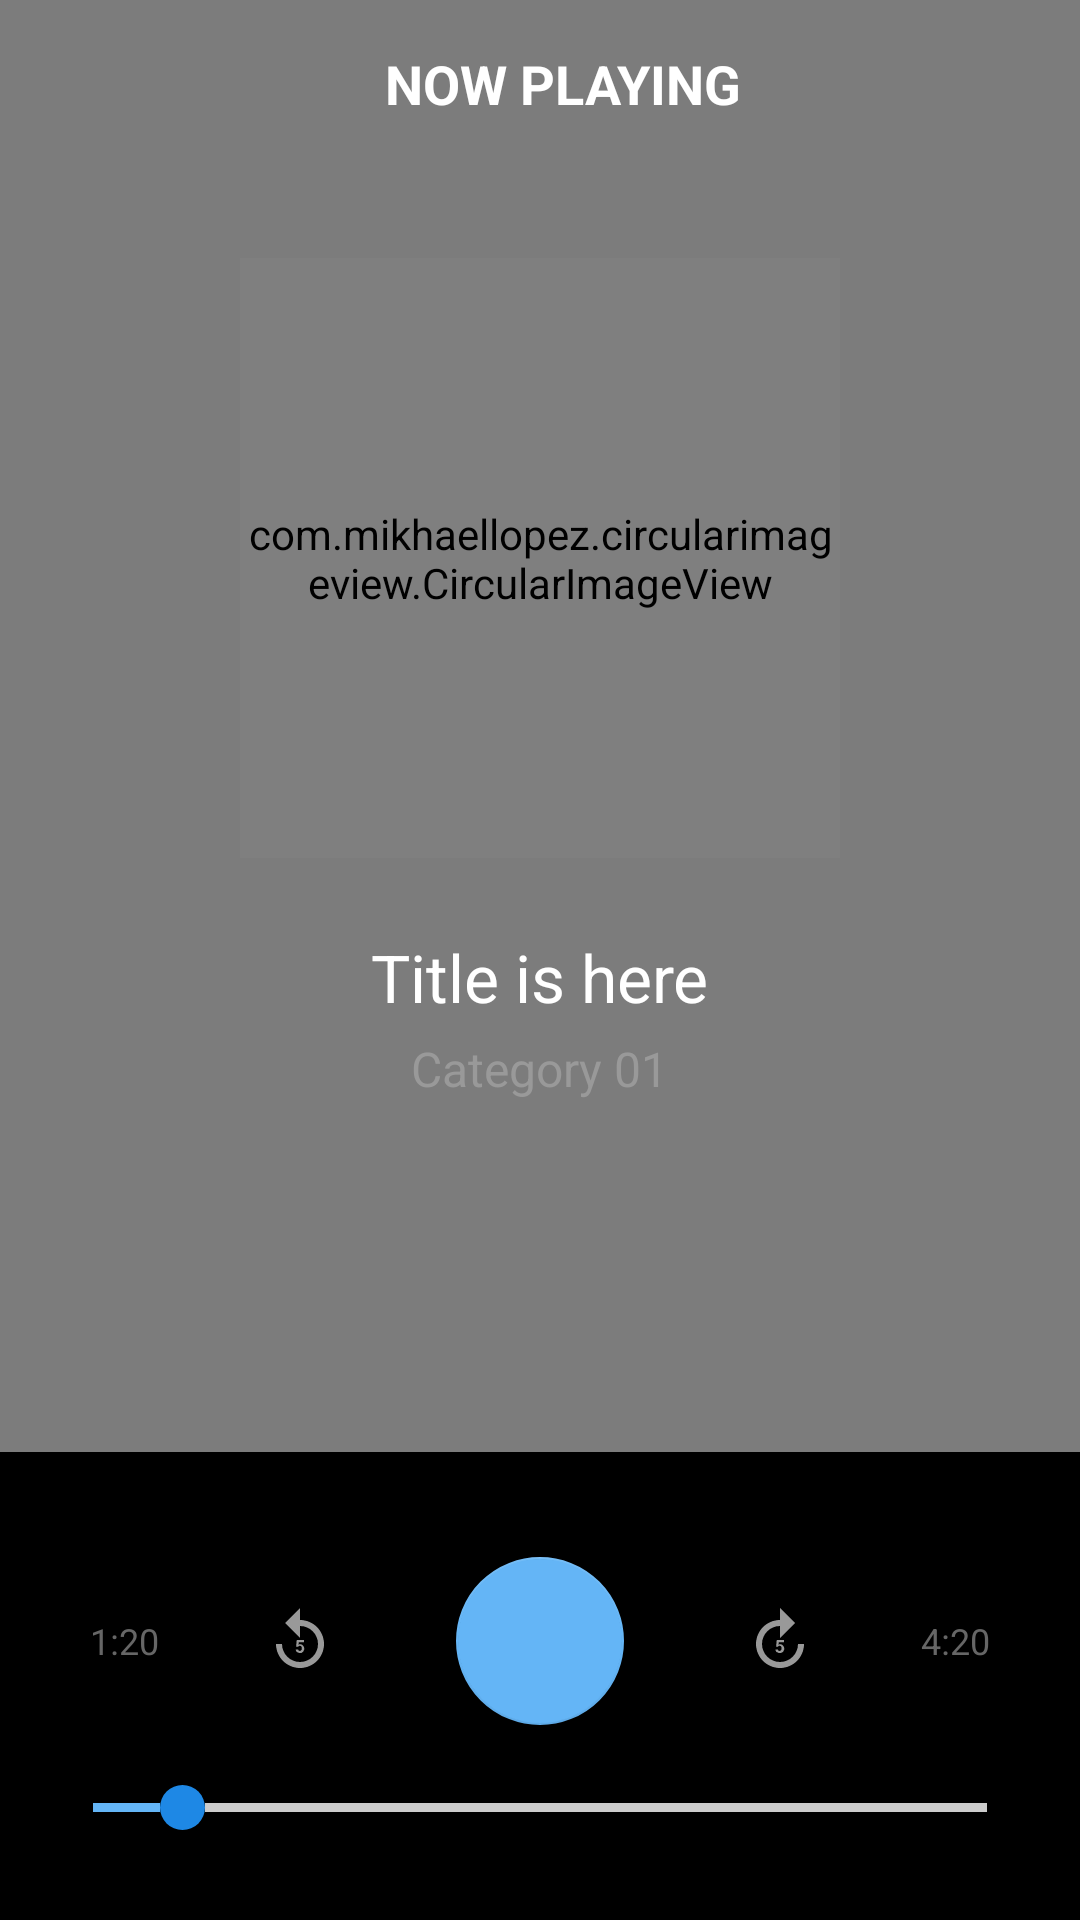

Screen size 1080w x 1920h. Icon name, then its box in pixels as (x1, y1, x2, y2):
backward: (276, 1608, 324, 1668)
forward: (756, 1608, 804, 1668)
